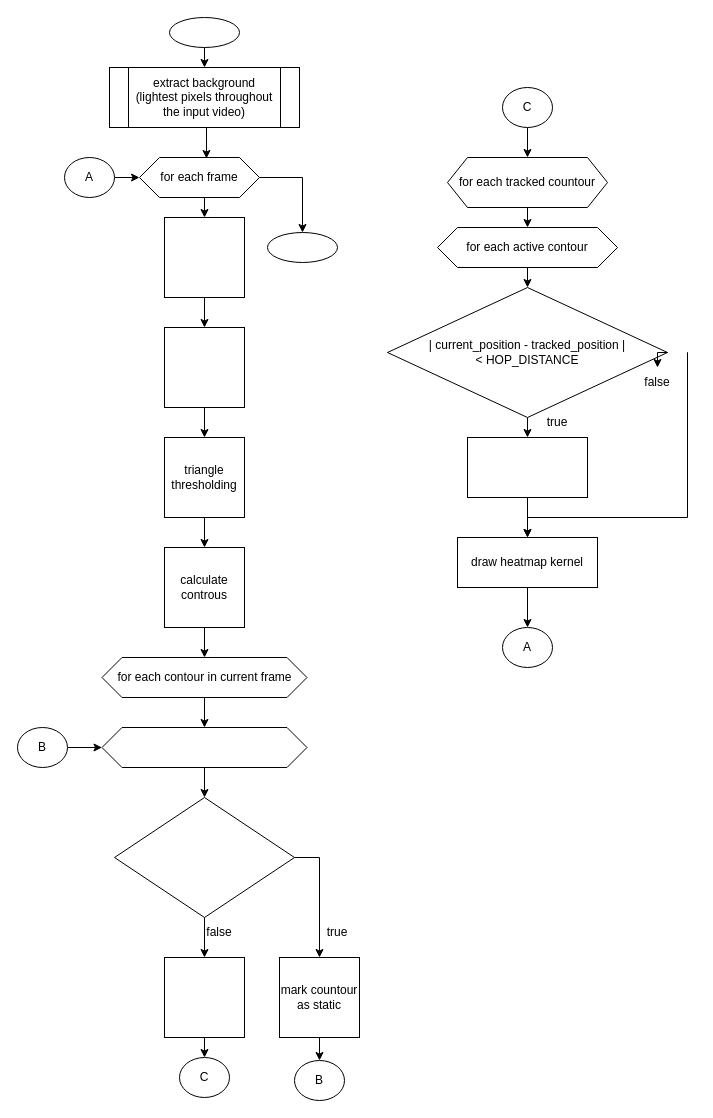
Some shapes in this 713 by 1118 pixel diagram are drawn without their labels. Each missing label, with the centre of its shape:
"background subtraction" belongs at pixel 204 367.
"convert frame to grayscale" belongs at pixel 204 257.
"end" belongs at pixel 302 247.
"for each contour in previous frame" belongs at pixel 204 747.
"mark countour as active" belongs at pixel 204 997.
"start" belongs at pixel 204 32.
"tracked_position ← current_position" belongs at pixel 527 467.
"| current_position - previous position | < 1" belongs at pixel 204 857.
